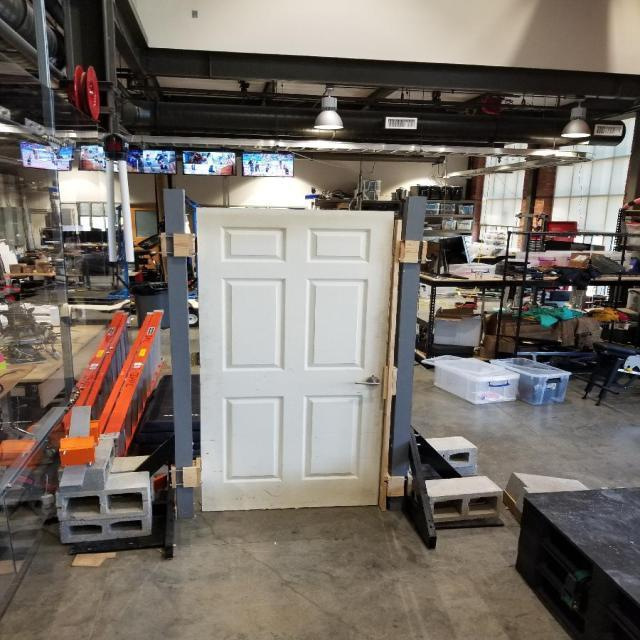door: (190, 203, 396, 518), (351, 376, 382, 392)
